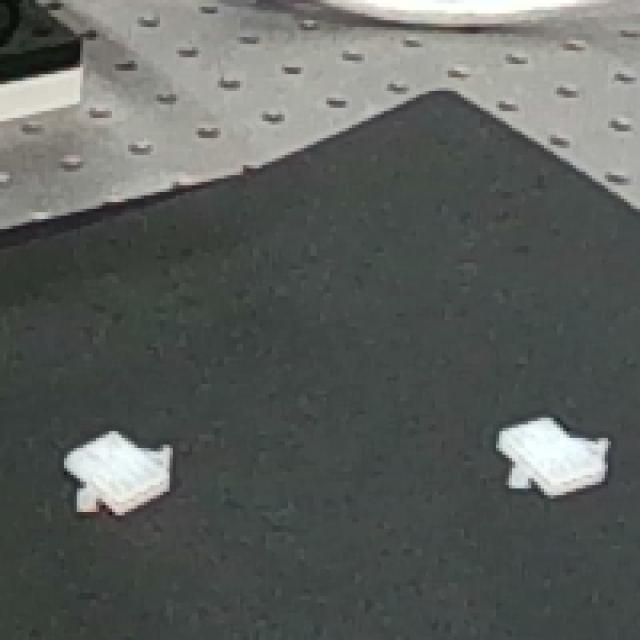pick: (45, 380, 198, 534), (463, 382, 627, 525)
